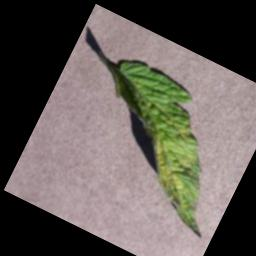Leaf_Mold: (112, 102, 246, 238)
